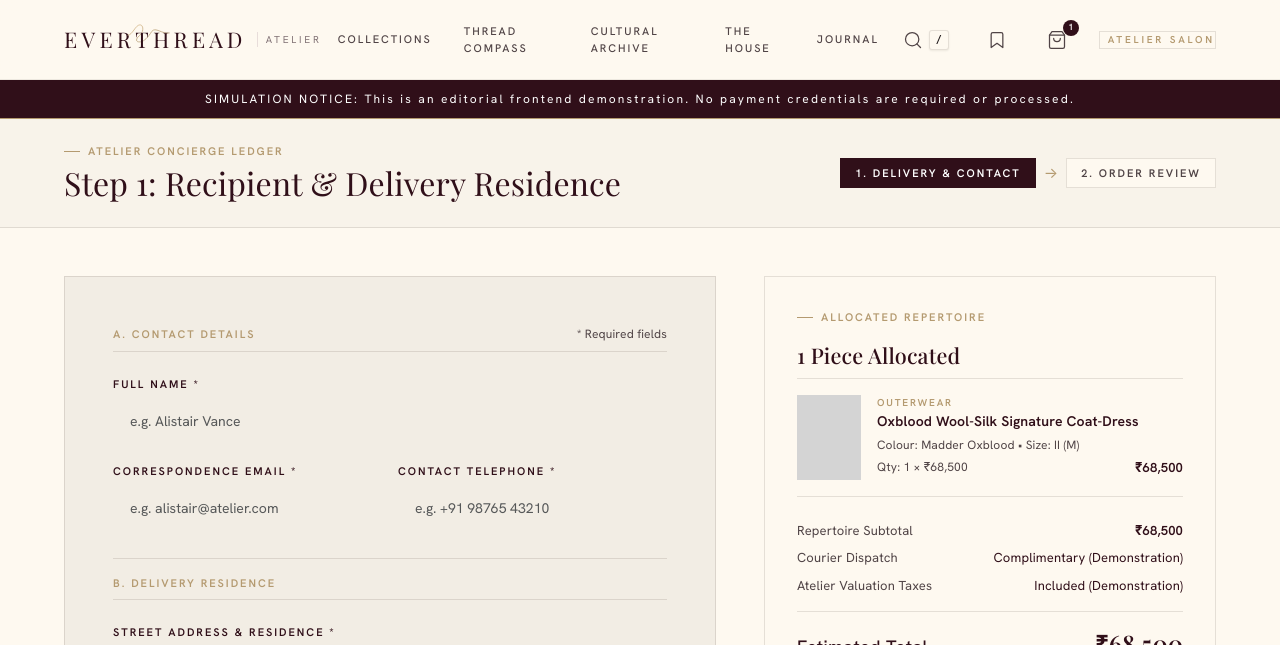
Test: EverThread Stage 3.6: Demo Concierge Checkout Suite › 3. Formatting Validation for Email, Phone, and Postal Code › rejects too short or malformed phone numbers without enforcing country bias
The width and height of the screenshot is (1280, 645).
In the field with test id "input-phone": {"x": 532, "y": 508} [398,483,667,534], type "123"
(page scrolled)
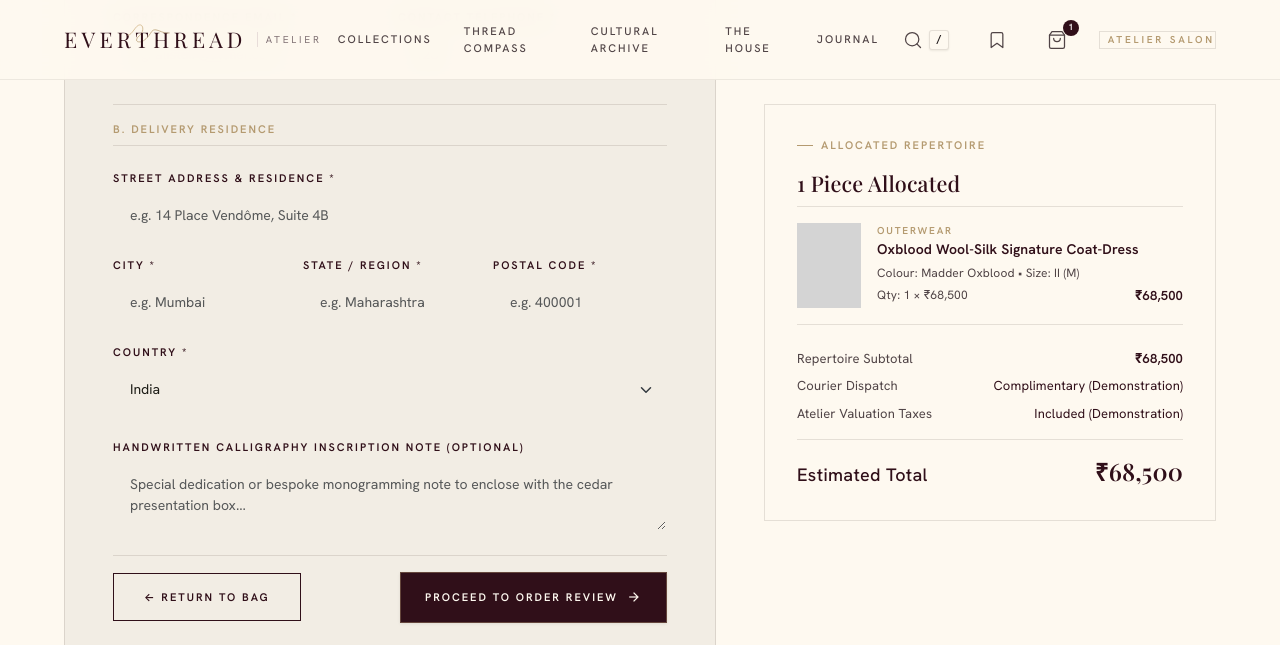
Click the button with test id "proceed-to-review-btn": {"x": 534, "y": 597} [400,572,667,622]
(page scrolled)
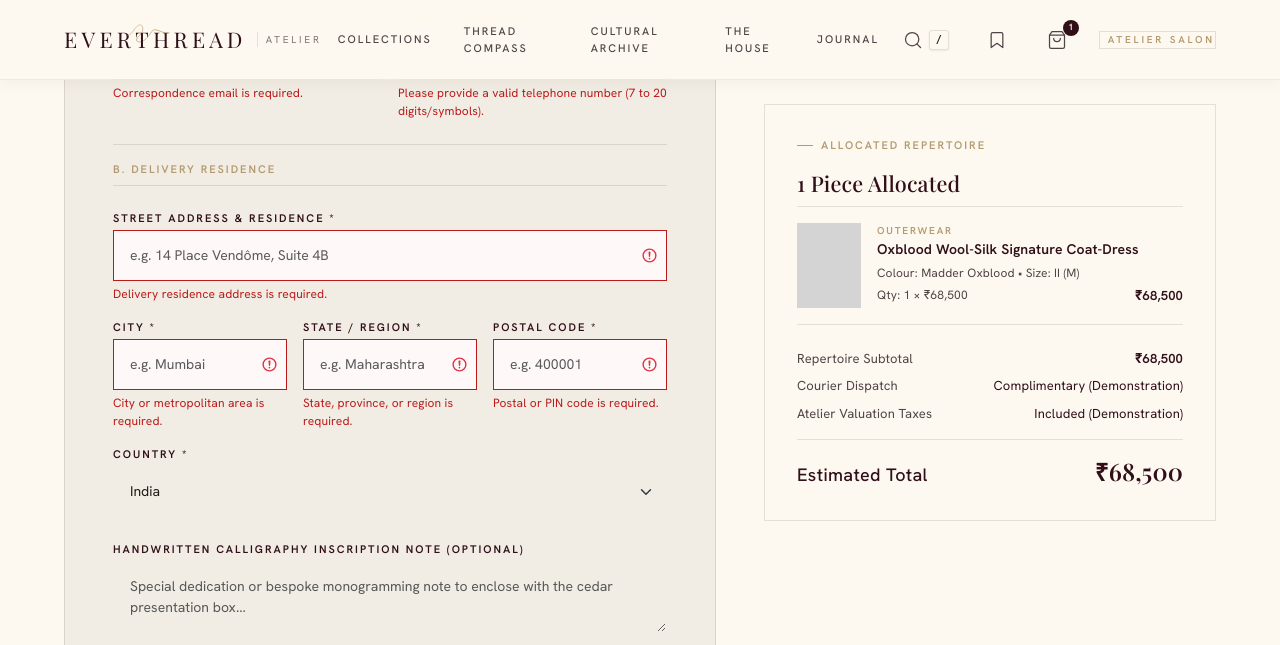
Expected: the message with test id "error-phone" shows "valid telephone number", [398,85,667,119]
